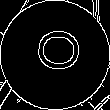O_W: (29, 32, 81, 78)
